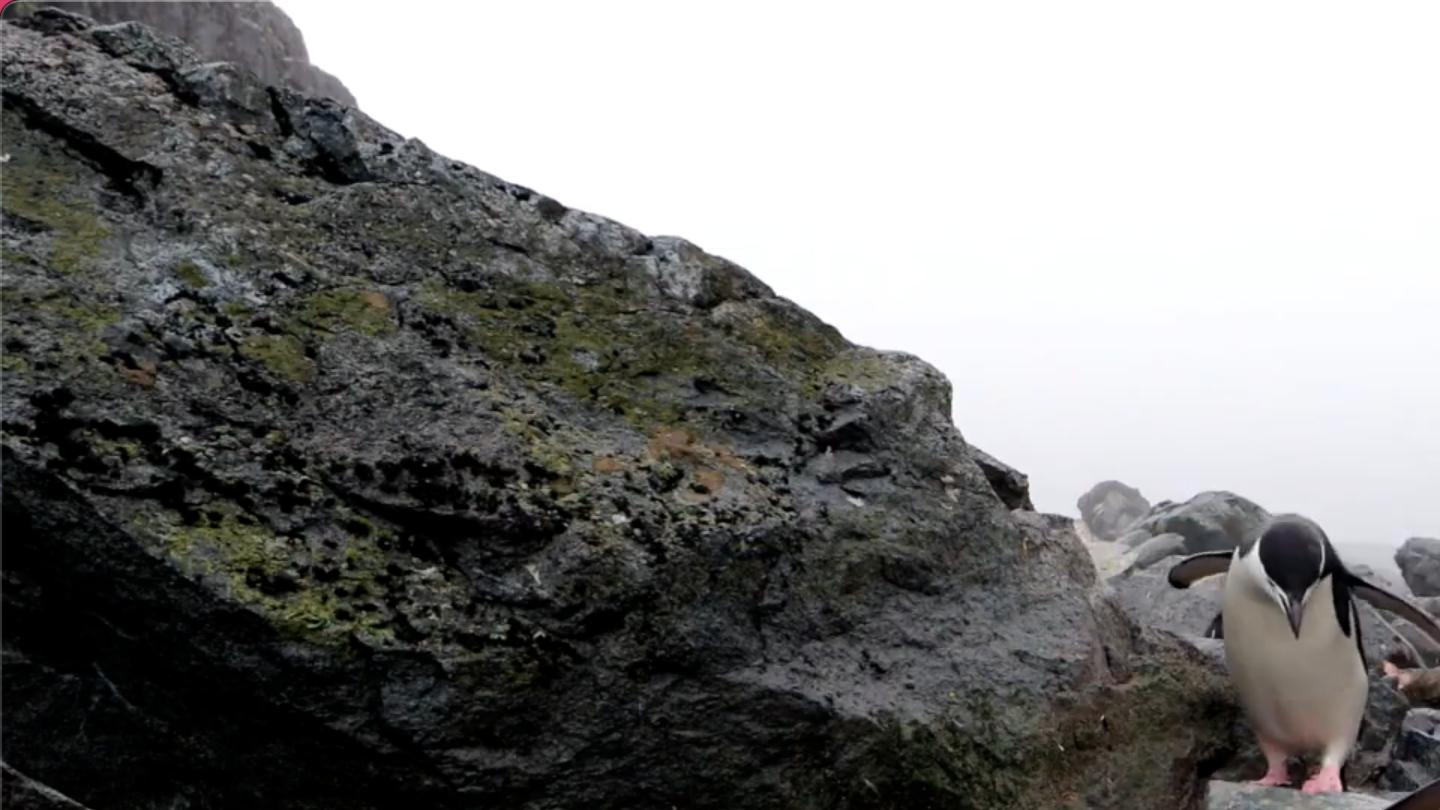Chinstrap Penguin: (1150, 430, 1440, 793), (1348, 535, 1440, 810)
